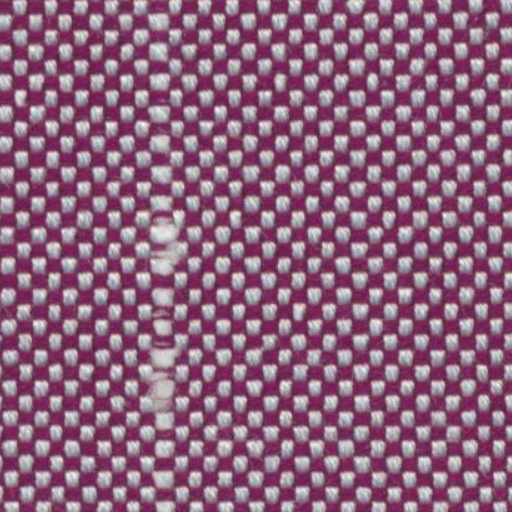DaiSha: (132, 14, 205, 482)
